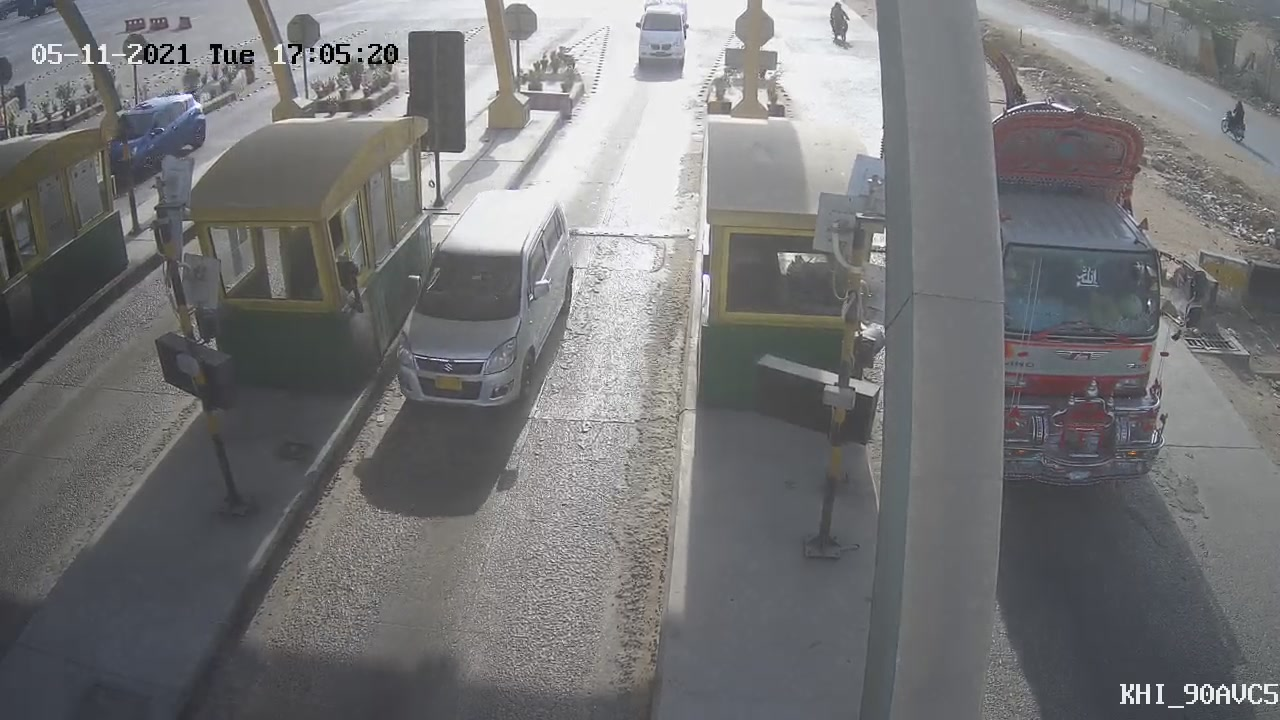F1: (363, 175, 597, 427)
